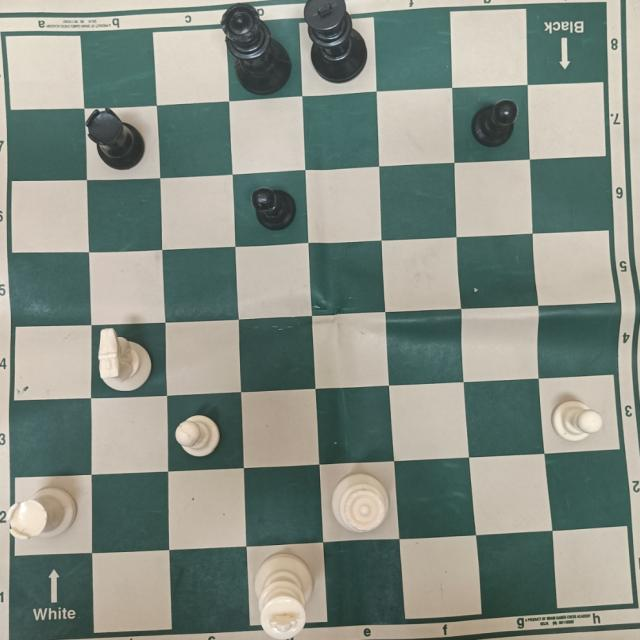black-king: (306, 0, 370, 83)
black-pawn: (471, 99, 518, 145), (252, 186, 298, 231)
black-queen: (221, 4, 290, 94)
black-rook: (86, 107, 145, 172)
white-king: (254, 553, 315, 637)
white-knight: (99, 328, 152, 391)
white-pawn: (553, 398, 600, 448), (177, 412, 220, 458)
white-queen: (332, 473, 389, 533)
white-rook: (8, 484, 78, 538)
